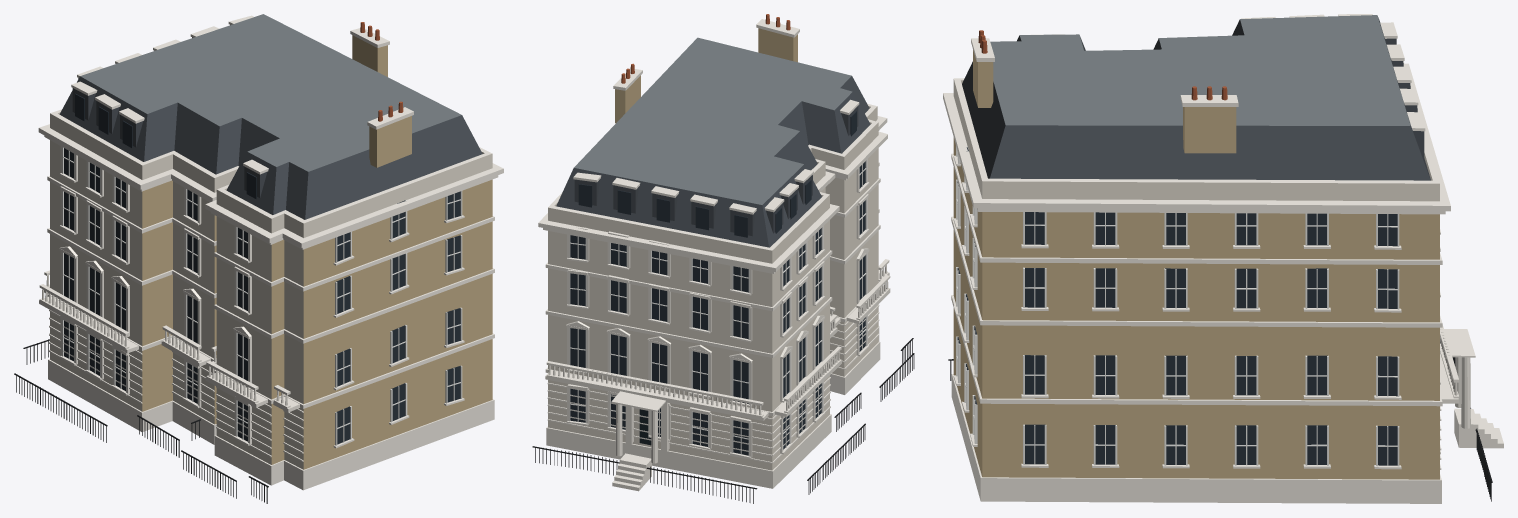
Rendered from sorbonne_house.glb.
The picture shows the model from 3 angles, left to right: view 1: azimuth 30°, elevation 25°; view 2: azimuth 150°, elevation 25°; view 3: azimuth 270°, elevation 25°; orthographic projection. The views are drawn at different scales.
Bounding box in the file's own units: 20.16 × 22.17 × 25.94.
